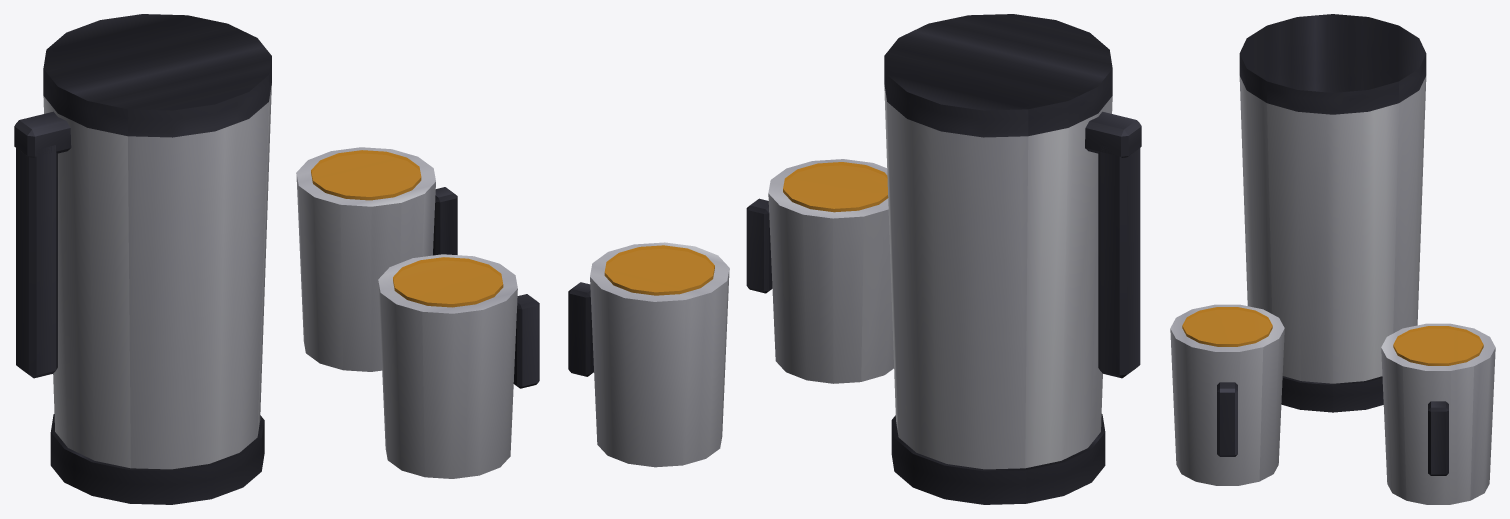
File: jarra_canecas.glb
The picture shows the model from 3 angles, left to right: view 1: azimuth 30°, elevation 25°; view 2: azimuth 150°, elevation 25°; view 3: azimuth 270°, elevation 25°; orthographic projection. The views are drawn at different scales.
Parts seen in each view (by area): view 1: jarra_canecas; view 2: jarra_canecas; view 3: jarra_canecas.
Part boxes in pixels (x1,y1,x2,y2): jarra_canecas: (14,14,539,504); jarra_canecas: (568,14,1141,504); jarra_canecas: (1170,14,1495,504).
Size of the model in its own units: 0.309 by 0.236 by 0.216.
Materials: 3 (2 with a texture image).
